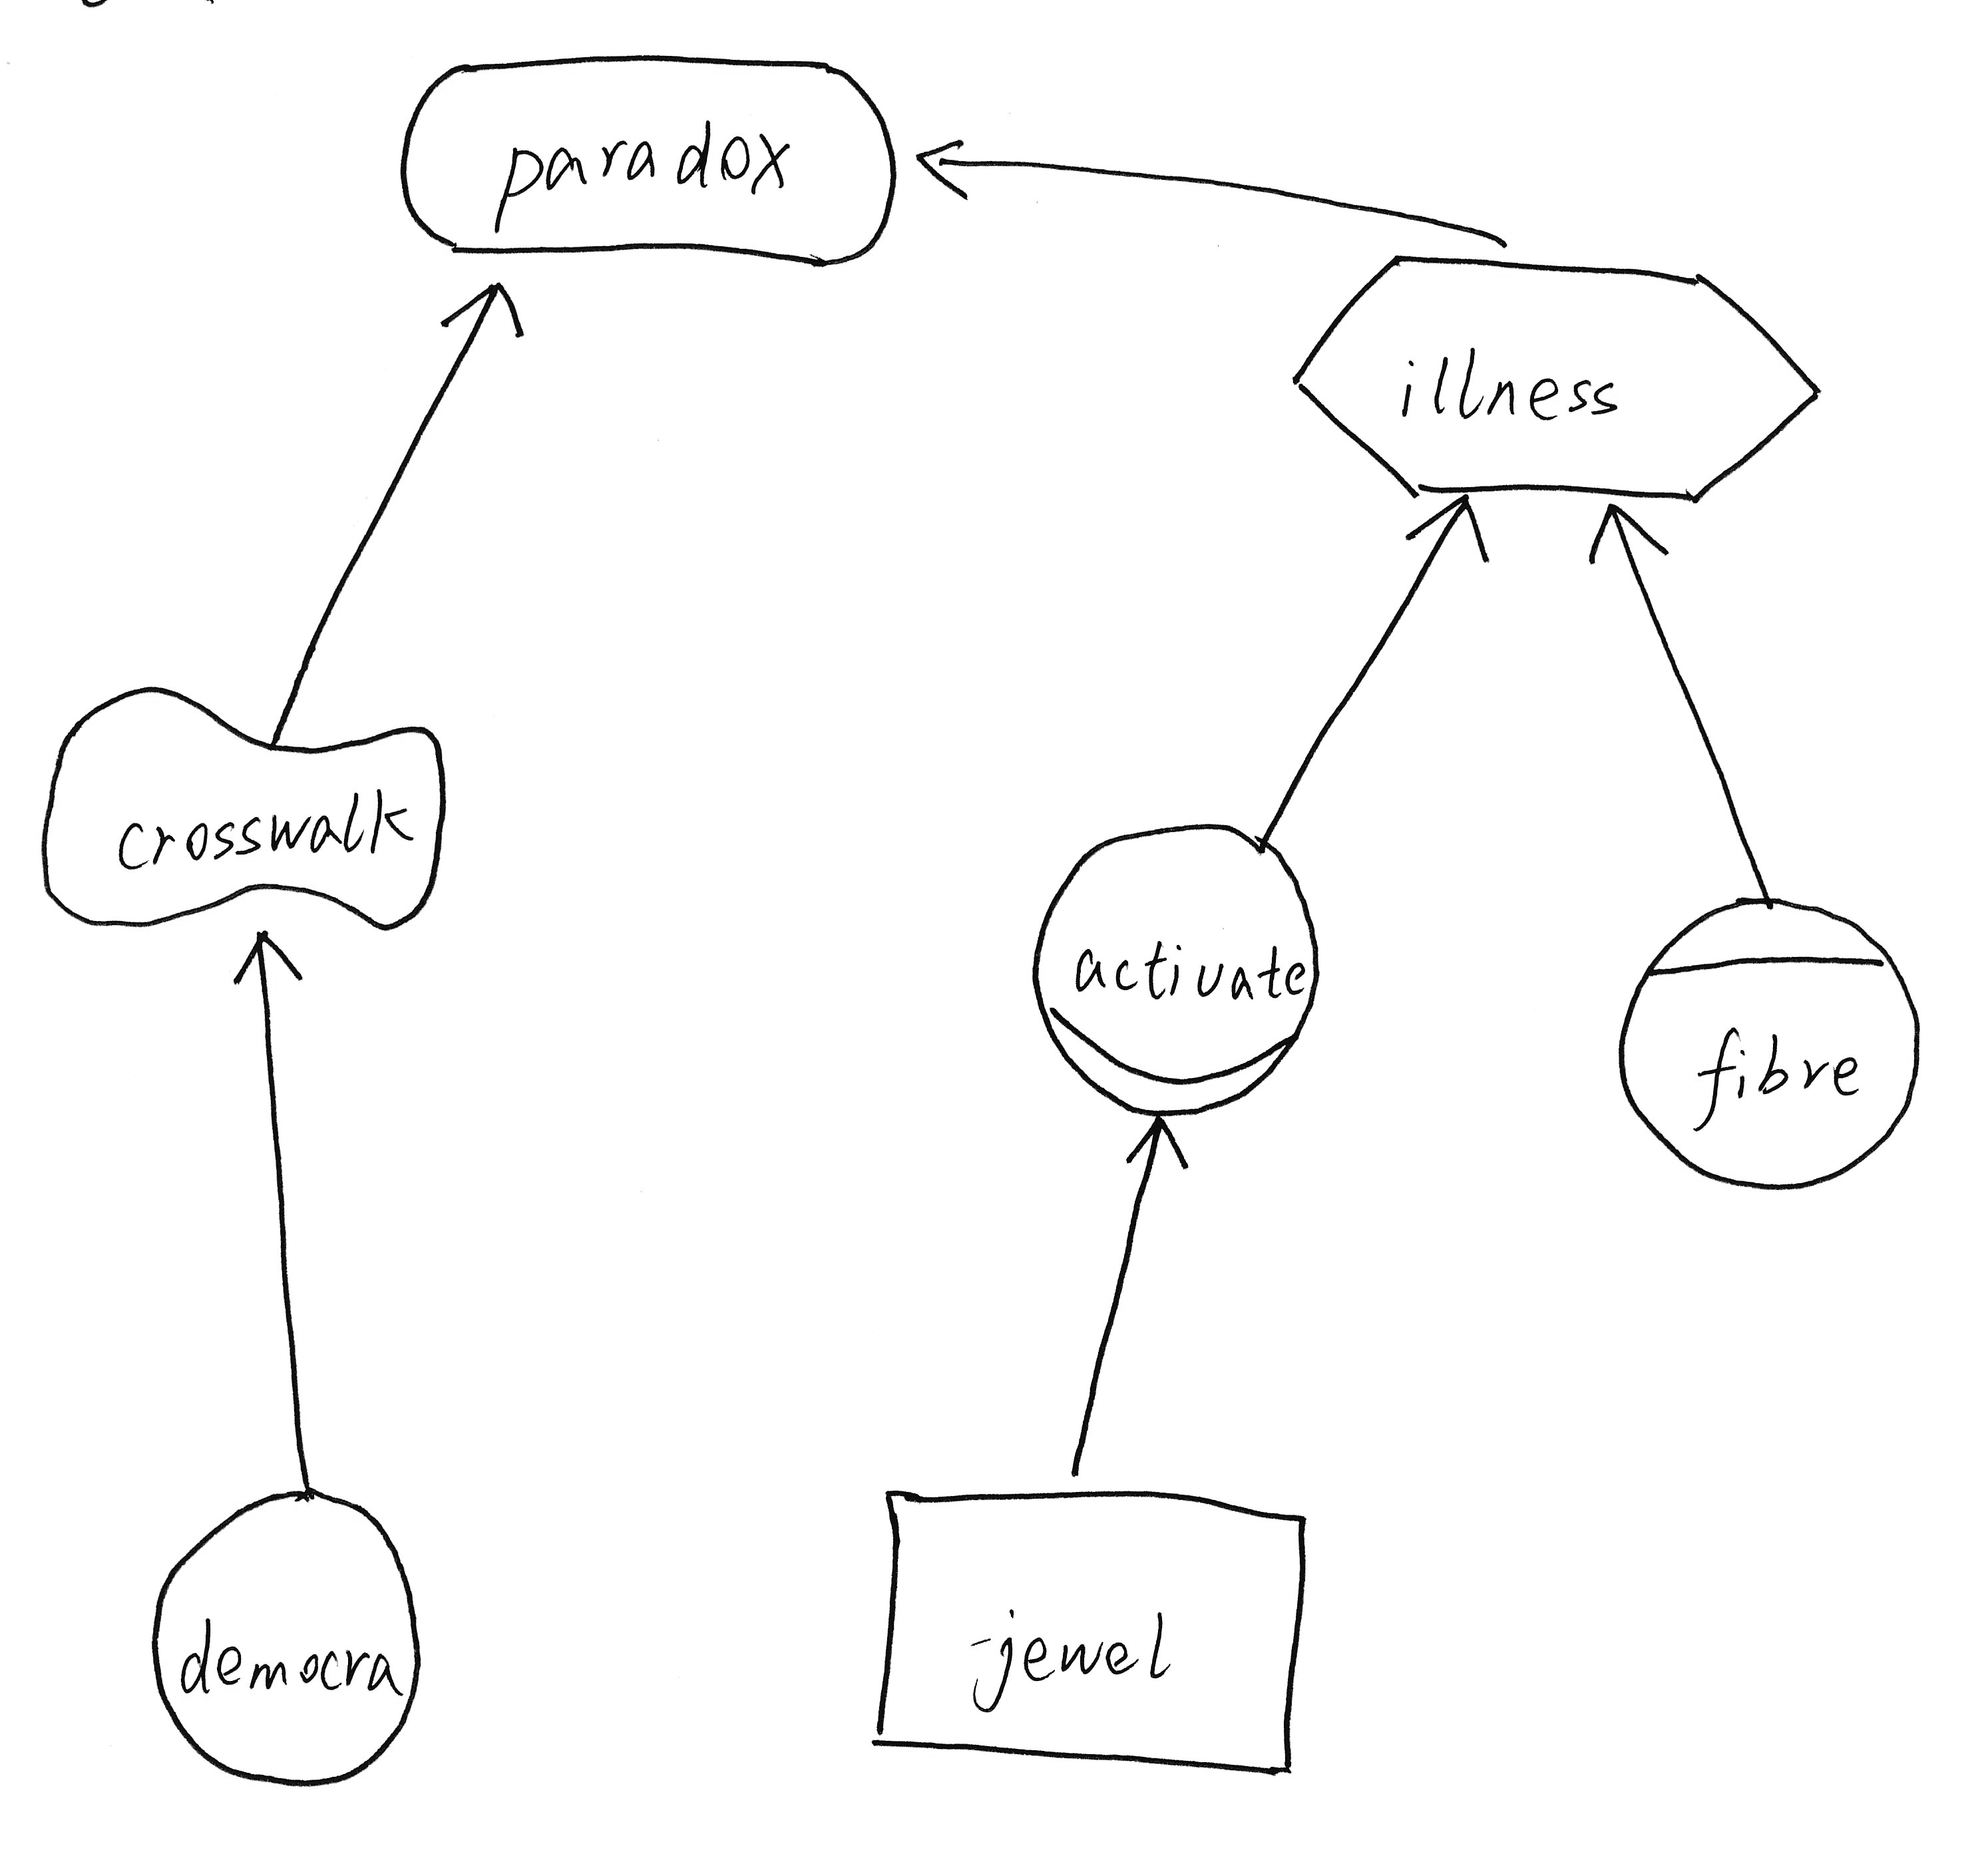actor: (132, 1465, 435, 1798)
agent: (1606, 882, 1944, 1205)
arrow: (1393, 481, 1500, 578), (1576, 493, 1676, 576), (433, 275, 535, 354), (220, 916, 308, 1002), (1109, 1103, 1199, 1187), (902, 123, 983, 208)
goal: (379, 35, 910, 285)
quality: (19, 673, 467, 937)
resource: (847, 1474, 1335, 1788)
role: (1016, 805, 1326, 1134)
task: (1271, 231, 1837, 521)
